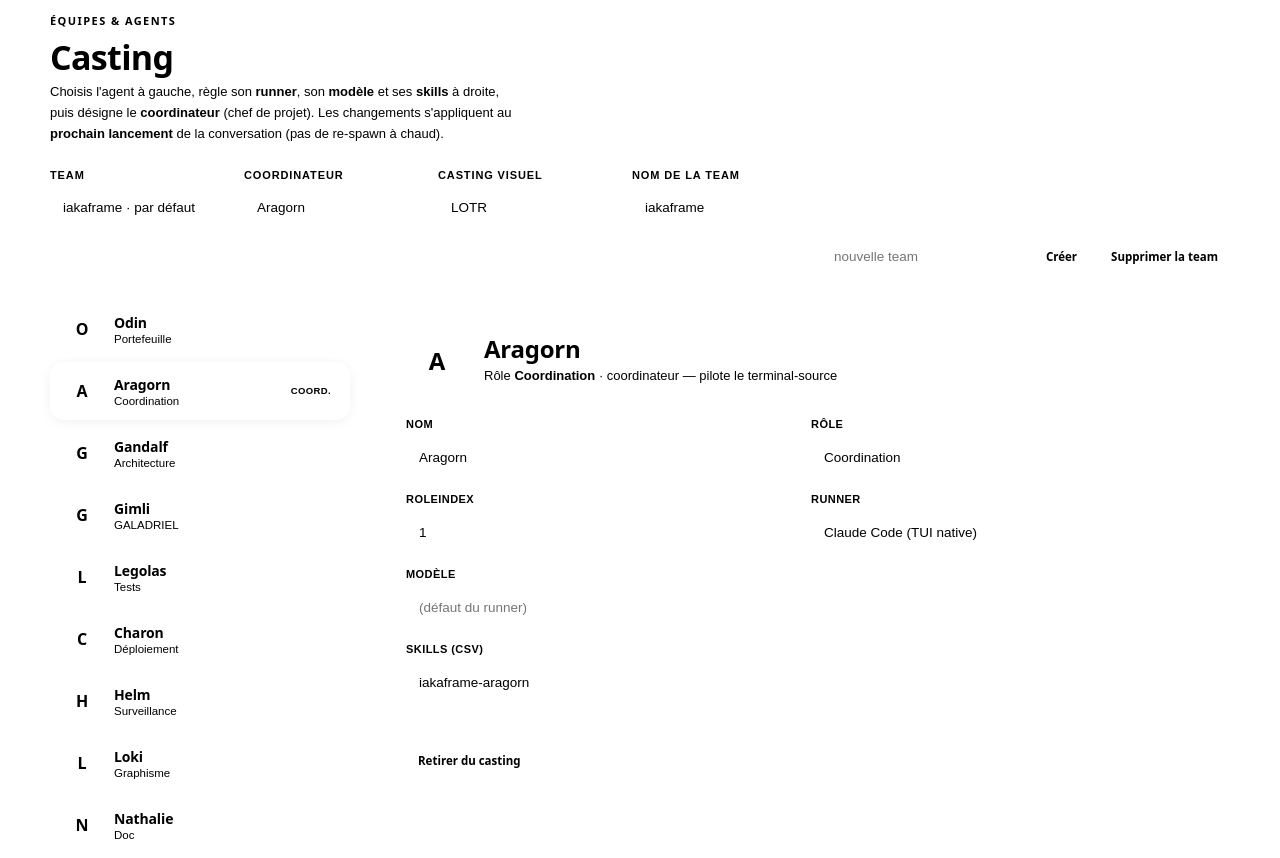
TeamsEditor — définition team/agents (L11, liste + fiche) › rôle hors-liste (team L15) : valeur courante conservée comme option (tolérant)
The image size is (1280, 858).
Step 1. Click the button "G Gimli GALADRIEL" → (132, 508), box [50,486,350,544]
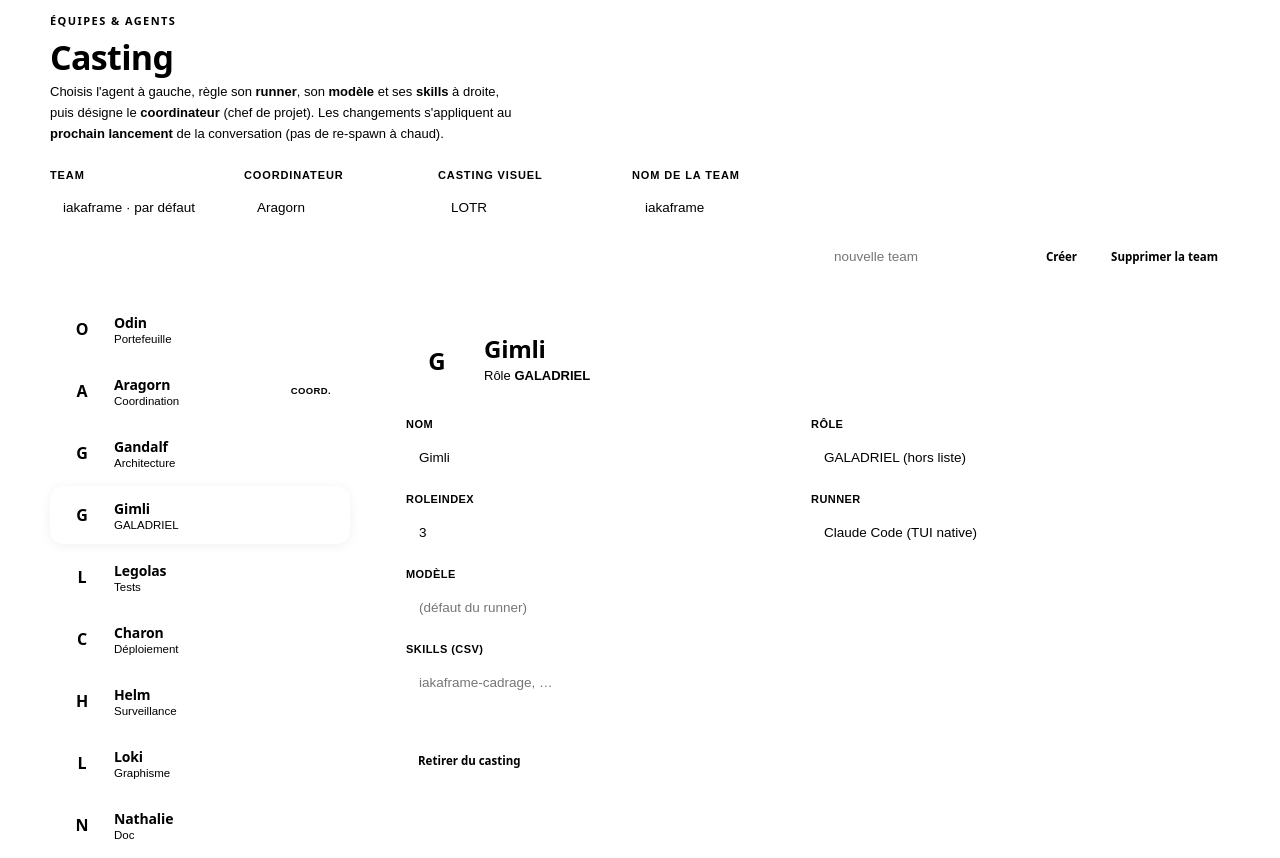
Result: the dropdown named "Rôle de gimli" shows "GALADRIEL (hors liste)" at [811,440,1200,475]
